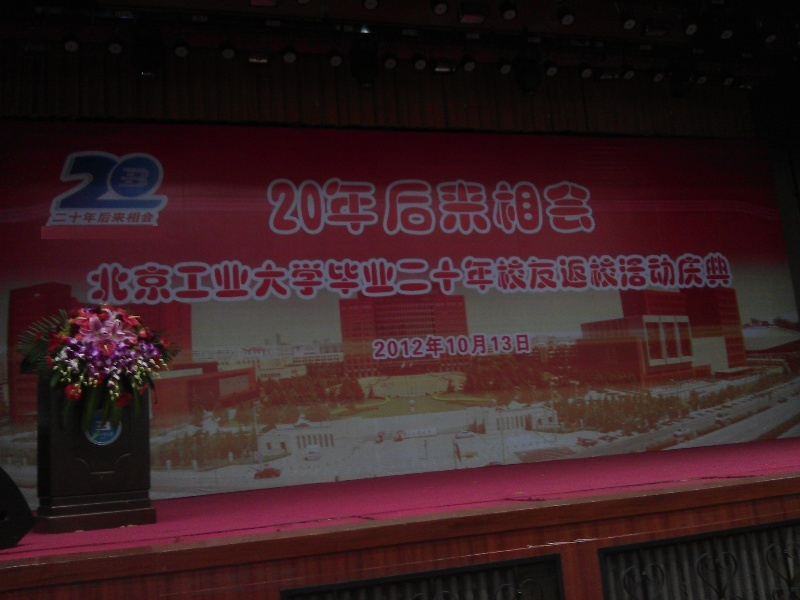text: (65, 151, 80, 212), (81, 151, 96, 212), (97, 151, 112, 212), (113, 151, 128, 212), (129, 151, 144, 212), (145, 151, 160, 212), (273, 177, 288, 237), (289, 177, 304, 237), (305, 177, 320, 237), (321, 177, 336, 237), (337, 177, 352, 237), (353, 177, 368, 237), (369, 177, 384, 237), (385, 177, 400, 237), (401, 177, 416, 237), (417, 177, 432, 237), (433, 177, 448, 237), (449, 177, 464, 237), (465, 177, 480, 237), (481, 177, 496, 237), (497, 177, 512, 237), (513, 177, 528, 237), (529, 177, 544, 237), (545, 177, 560, 237), (561, 177, 576, 237), (577, 177, 592, 237), (97, 251, 112, 307), (113, 251, 128, 307), (129, 251, 144, 307), (145, 251, 160, 307), (161, 251, 176, 307), (177, 251, 192, 307), (193, 251, 208, 307), (209, 251, 224, 307), (225, 251, 240, 307), (241, 251, 256, 307), (257, 251, 272, 307), (273, 251, 288, 307), (289, 251, 304, 307), (305, 251, 320, 307), (321, 251, 336, 307), (337, 251, 352, 307), (353, 251, 368, 307), (369, 251, 384, 307), (385, 251, 400, 307), (401, 251, 416, 307), (417, 251, 432, 307), (433, 251, 448, 307), (449, 251, 464, 307), (465, 251, 480, 307), (481, 251, 496, 307), (497, 251, 512, 307), (513, 251, 528, 307), (529, 251, 544, 307), (545, 251, 560, 307), (561, 251, 576, 307), (577, 251, 592, 307), (593, 251, 608, 307), (609, 251, 624, 307), (625, 251, 640, 307), (641, 251, 656, 307), (657, 251, 672, 307), (673, 251, 688, 307), (689, 251, 704, 307), (705, 251, 720, 307), (721, 251, 734, 307), (55, 151, 64, 212), (87, 251, 96, 307), (264, 177, 272, 237), (385, 331, 400, 361), (401, 331, 416, 361), (417, 331, 432, 361), (433, 331, 448, 361), (449, 331, 464, 361), (465, 331, 480, 361), (481, 331, 496, 361), (497, 331, 512, 361), (513, 331, 528, 361), (161, 151, 168, 212), (372, 331, 384, 361), (593, 177, 597, 237), (65, 211, 80, 224), (81, 211, 96, 224), (97, 211, 112, 224), (113, 211, 128, 224), (129, 211, 144, 224), (52, 211, 64, 224), (97, 422, 112, 432), (145, 211, 156, 224), (529, 331, 533, 361), (417, 430, 433, 436), (403, 430, 416, 436), (97, 433, 113, 437), (261, 373, 272, 378), (273, 373, 281, 378), (94, 433, 96, 437)
